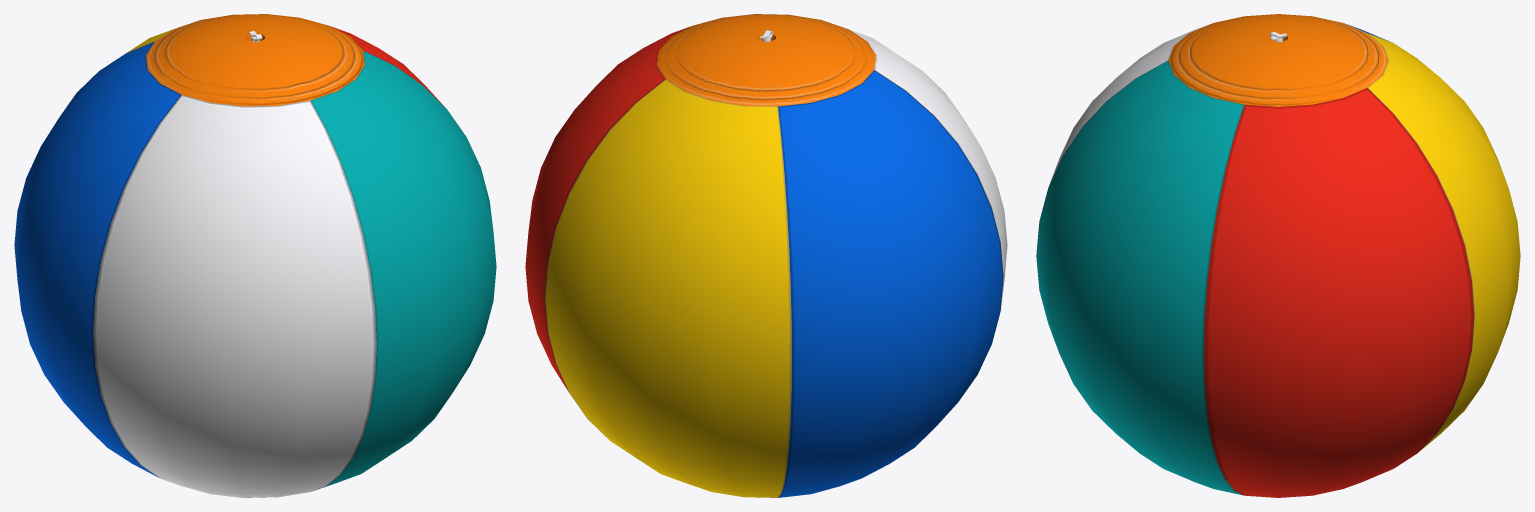
The picture shows the model from 3 angles, left to right: view 1: azimuth 30°, elevation 25°; view 2: azimuth 150°, elevation 25°; view 3: azimuth 270°, elevation 25°; orthographic projection.
Visible parts, largest first — view 1: beachball_a1.2; view 2: beachball_a1.2; view 3: beachball_a1.2.
Boxes of the visible parts, bbox=[...] form: beachball_a1.2: bbox=[14, 14, 496, 497]; beachball_a1.2: bbox=[525, 14, 1007, 497]; beachball_a1.2: bbox=[1036, 14, 1520, 497].
Size of the model in its own units: 0.0394 by 0.0397 by 0.0394.
Materials: 1 (1 with a texture image).
